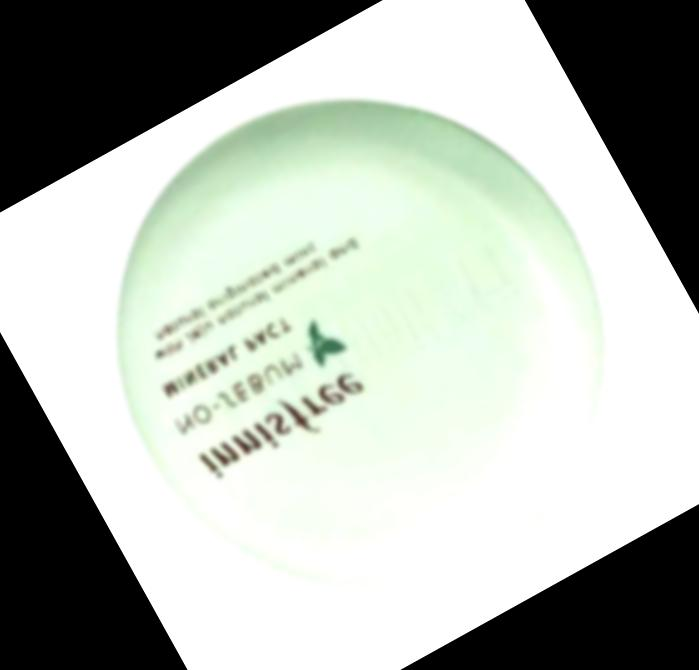cosmetic: (25, 3, 695, 670)
